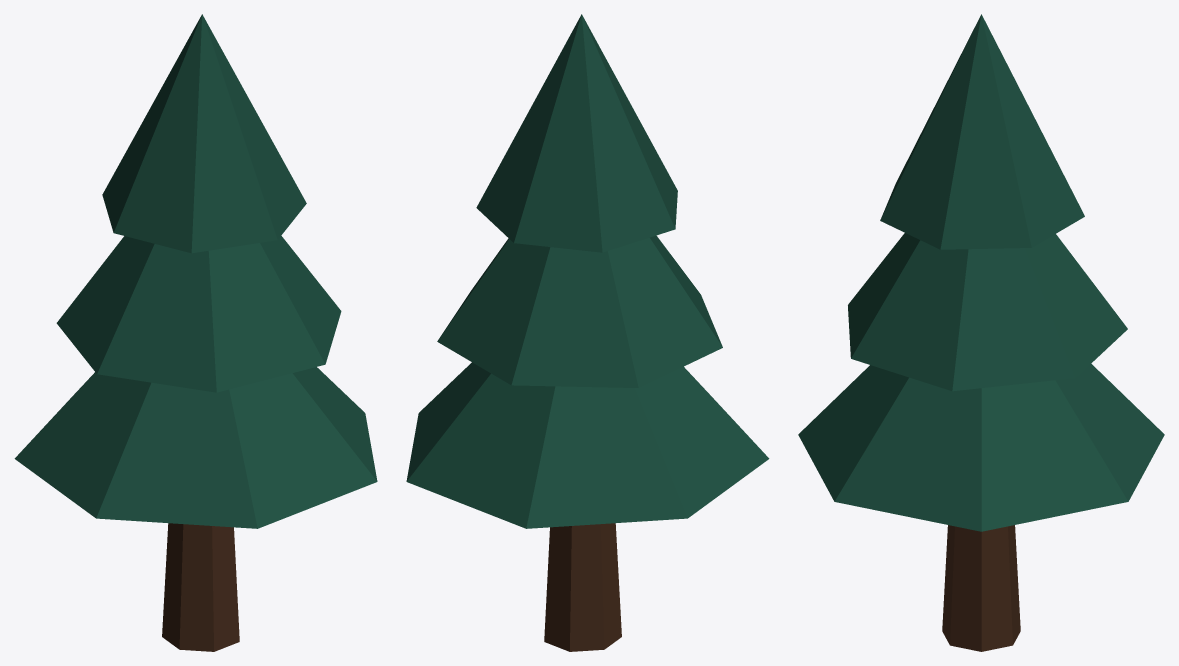
Rendered from pine_tree.obj.
3 renders of one model, left to right at view 1: azimuth 30°, elevation 25°; view 2: azimuth 150°, elevation 25°; view 3: azimuth 270°, elevation 25°, orthographic.
Parts seen in each view (by area): view 1: pine_tree; view 2: pine_tree; view 3: pine_tree.
Part boxes in pixels (left/top/right/bottom): pine_tree: left=14, top=14, right=377, bottom=651; pine_tree: left=406, top=14, right=769, bottom=651; pine_tree: left=798, top=14, right=1164, bottom=651.
Size of the model in its own units: 2.66 by 5.1 by 2.73.
